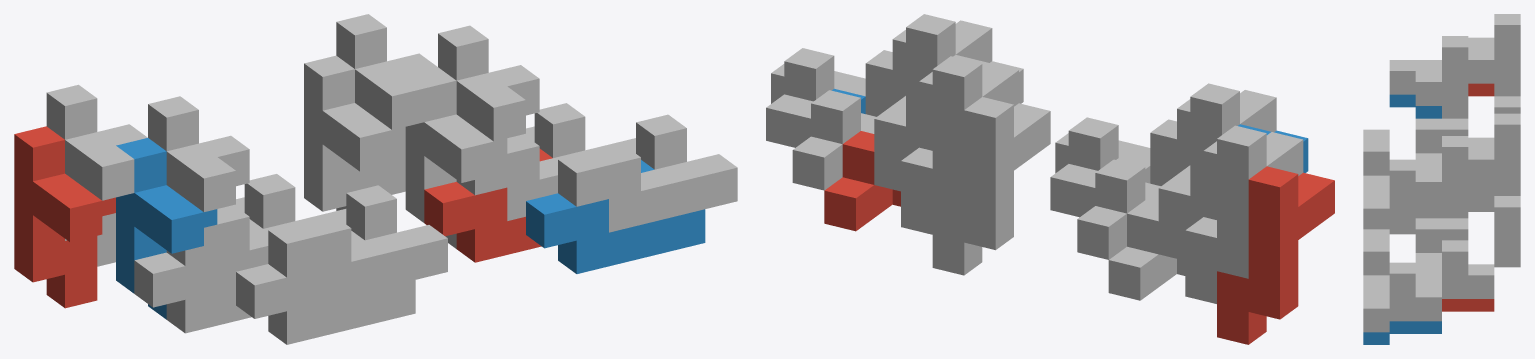
The model's file is tiling.obj.
3 views of the same model, side by side, from view 1: azimuth 30°, elevation 25°; view 2: azimuth 150°, elevation 25°; view 3: azimuth 270°, elevation 25° (orthographic). The views are drawn at different scales.
Visible parts, largest first — view 1: copy_2_domain_4, copy_2_domain_8, copy_1_domain_1, copy_1_domain_5, copy_2_domain_6, copy_2_domain_2, copy_1_domain_6, copy_1_domain_2, copy_1_domain_3, copy_1_domain_7, copy_1_domain_8, copy_1_domain_4 (+4 smaller); view 2: copy_1_domain_1, copy_1_domain_5, copy_1_domain_7, copy_1_domain_3, copy_1_domain_8, copy_1_domain_4, copy_2_domain_8, copy_2_domain_4, copy_2_domain_7, copy_2_domain_3, copy_2_domain_5, copy_2_domain_1; view 3: copy_2_domain_8, copy_1_domain_7, copy_1_domain_8, copy_1_domain_4, copy_2_domain_7, copy_1_domain_3, copy_2_domain_4, copy_2_domain_3, copy_2_domain_6, copy_1_domain_6, copy_1_domain_5, copy_1_domain_2 (+4 smaller).
Part boxes in pixels (x1,y1,x2,y2): copy_2_domain_4: [268, 185, 447, 303]; copy_2_domain_8: [558, 114, 737, 232]; copy_1_domain_1: [14, 126, 115, 308]; copy_1_domain_5: [304, 55, 405, 211]; copy_2_domain_6: [526, 160, 705, 273]; copy_2_domain_2: [236, 231, 415, 344]; copy_1_domain_6: [405, 67, 507, 248]; copy_1_domain_2: [116, 138, 217, 319]; copy_1_domain_3: [46, 84, 147, 266]; copy_1_domain_7: [336, 14, 437, 194]; copy_1_domain_8: [438, 25, 539, 141]; copy_1_domain_4: [148, 96, 249, 211]; copy_1_domain_1: [1217, 166, 1334, 344]; copy_1_domain_5: [932, 97, 1050, 275]; copy_1_domain_7: [901, 56, 1018, 234]; copy_1_domain_3: [1185, 125, 1303, 303]; copy_1_domain_8: [874, 14, 992, 191]; copy_1_domain_4: [1158, 83, 1276, 260]; copy_2_domain_8: [766, 48, 905, 147]; copy_2_domain_4: [1050, 117, 1190, 217]; copy_2_domain_7: [792, 90, 905, 190]; copy_2_domain_3: [1077, 159, 1190, 259]; copy_2_domain_5: [824, 131, 900, 231]; copy_2_domain_1: [1108, 200, 1185, 300]; copy_2_domain_8: [1363, 229, 1441, 332]; copy_1_domain_7: [1468, 113, 1520, 254]; copy_1_domain_8: [1389, 136, 1468, 240]; copy_1_domain_4: [1389, 36, 1468, 135]; copy_2_domain_7: [1415, 218, 1494, 298]; copy_1_domain_3: [1468, 14, 1520, 113]; copy_2_domain_4: [1363, 129, 1415, 229]; copy_2_domain_3: [1415, 118, 1494, 199]; copy_2_domain_6: [1363, 321, 1441, 344]; copy_1_domain_6: [1389, 194, 1441, 218]; copy_1_domain_5: [1468, 183, 1520, 267]; copy_1_domain_2: [1389, 94, 1441, 118].
Size of the model in its own units: 19 by 6 by 6.
